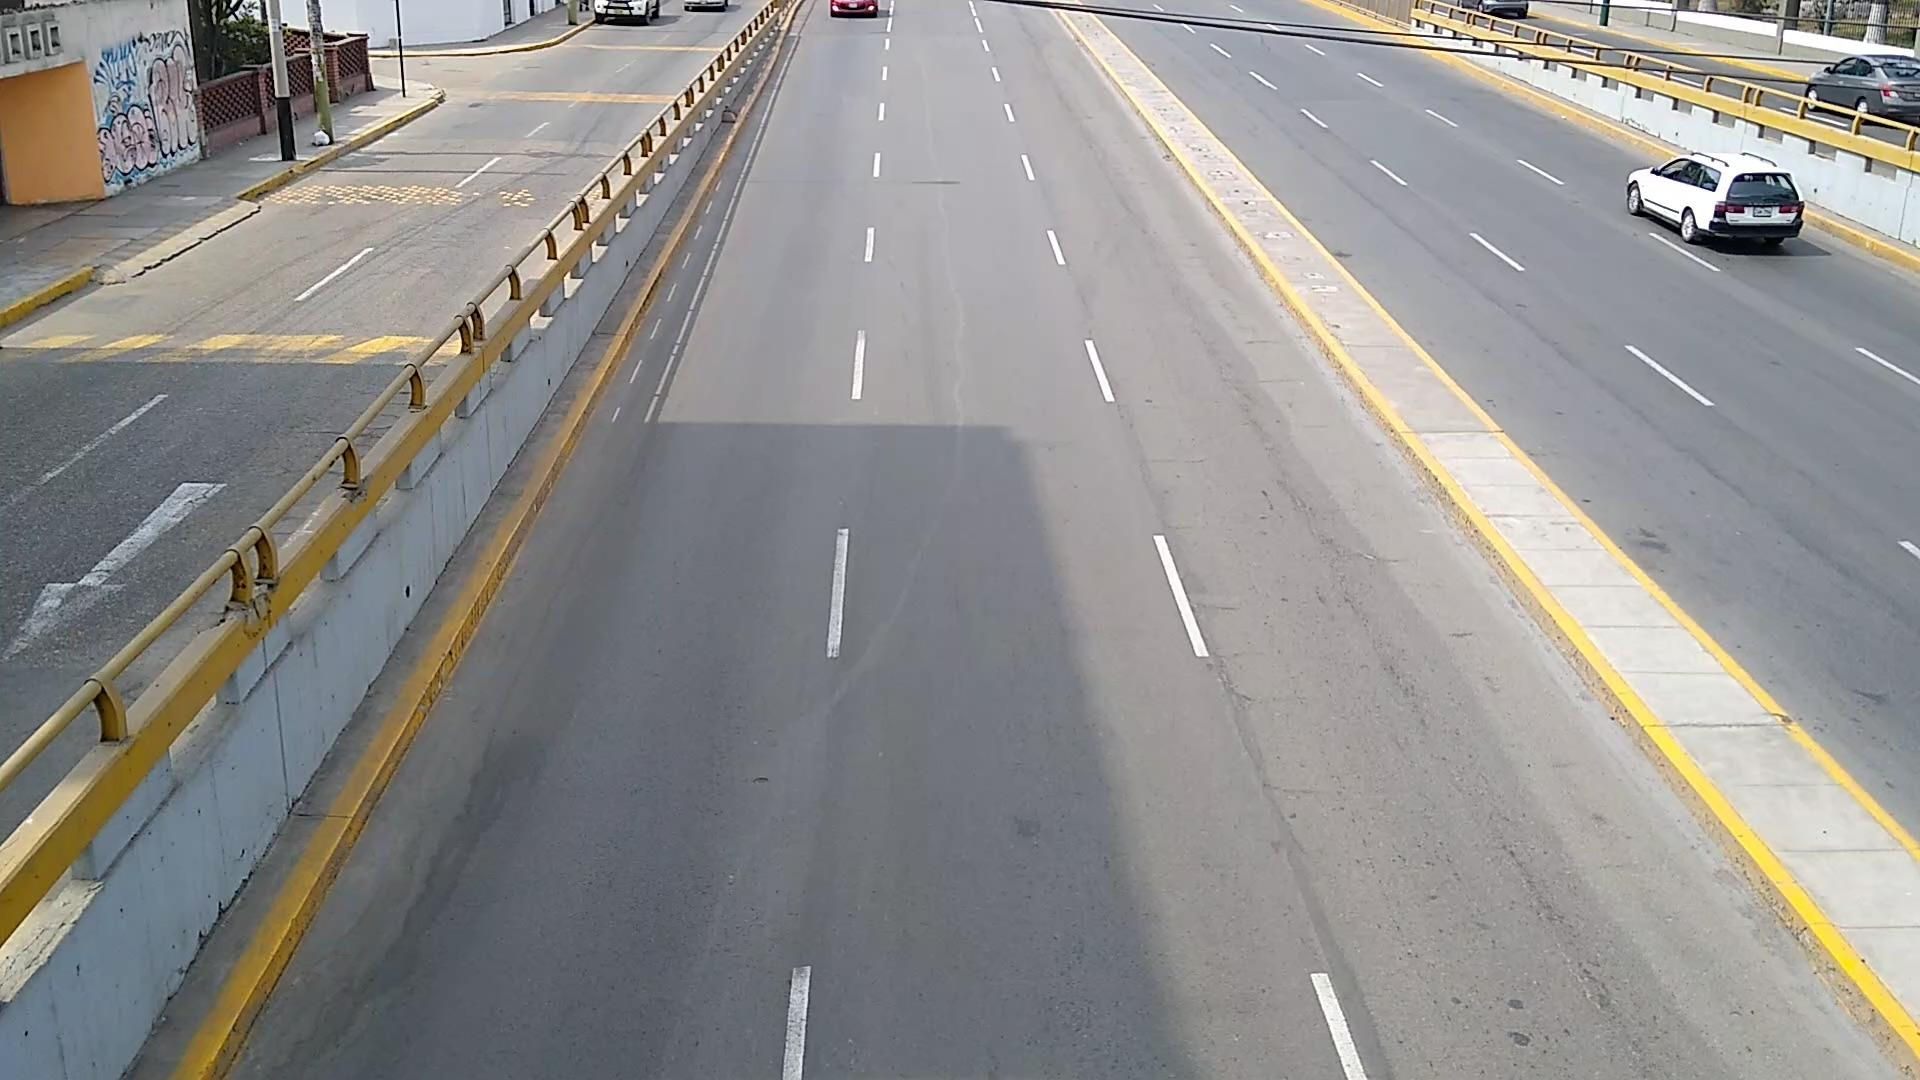car: (1623, 154, 1804, 248), (1808, 57, 1920, 121), (281, 0, 307, 26)
